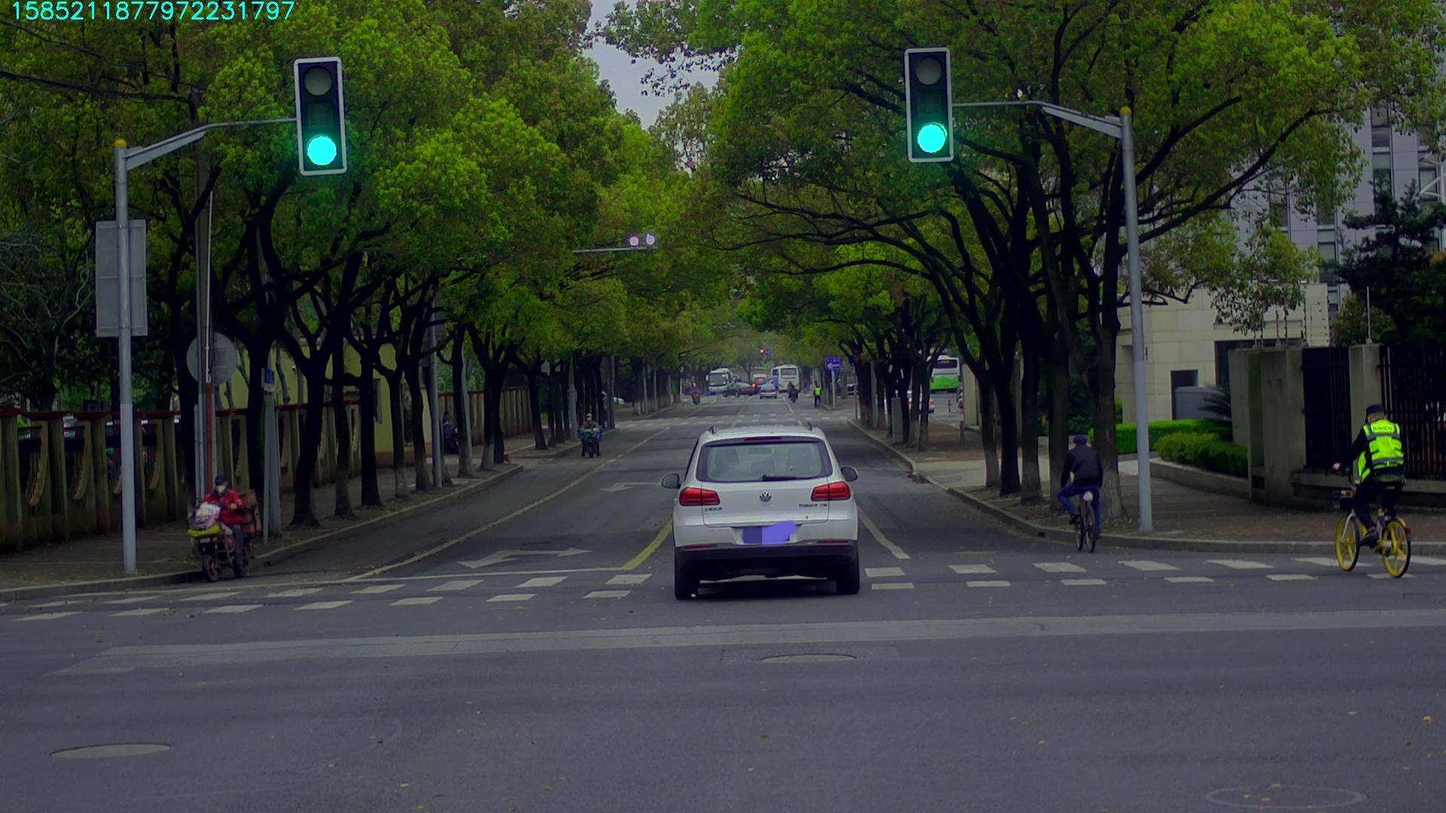green: (294, 59, 343, 170), (906, 50, 951, 160)
